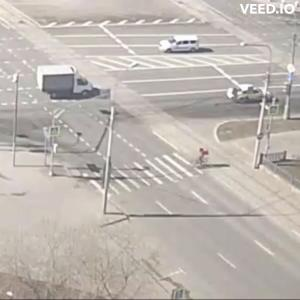car: (39, 63, 105, 101), (231, 83, 273, 102), (160, 36, 200, 55)
